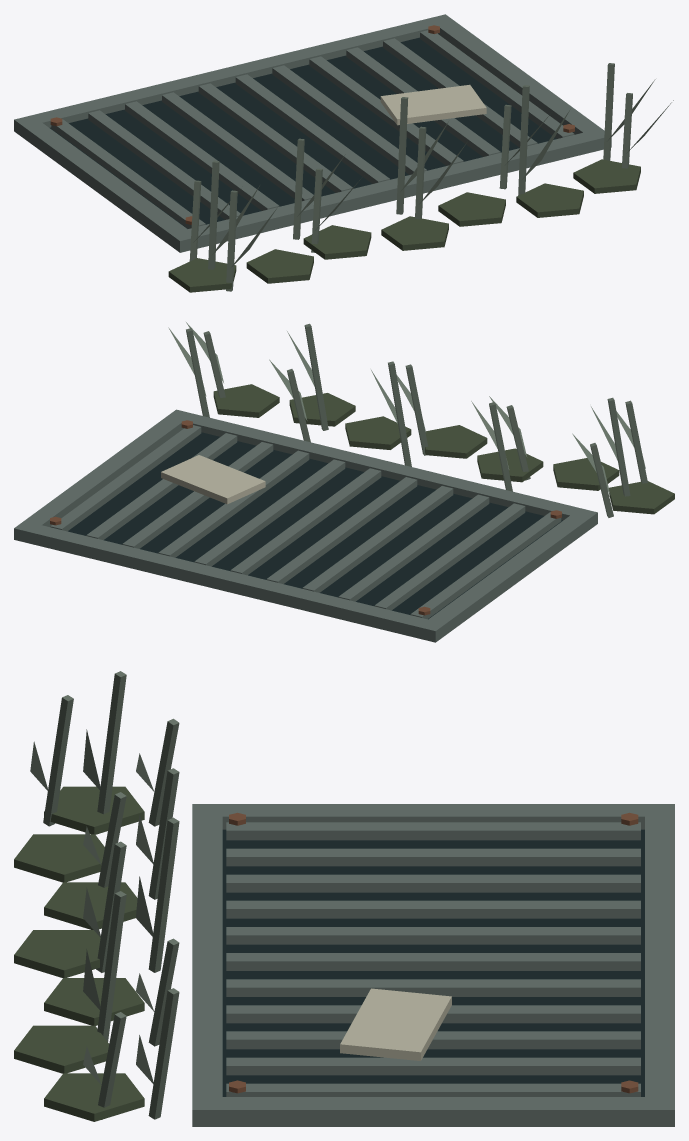
The model's file is v115-yard-drain-weeds.glb.
3 renders of one model, top to bottom at view 1: azimuth 30°, elevation 25°; view 2: azimuth 150°, elevation 25°; view 3: azimuth 270°, elevation 25°, orthographic. The views are drawn at different scales.
Visible parts, largest first — view 1: drain-weeds; view 2: drain-weeds; view 3: drain-weeds.
Part boxes in pixels (<box>): drain-weeds: <box>14,14,673,292</box>; drain-weeds: <box>14,322,674,642</box>; drain-weeds: <box>14,671,674,1126</box>.
Bounding box in the file's own units: 1.1 × 0.2321 × 0.8766.
